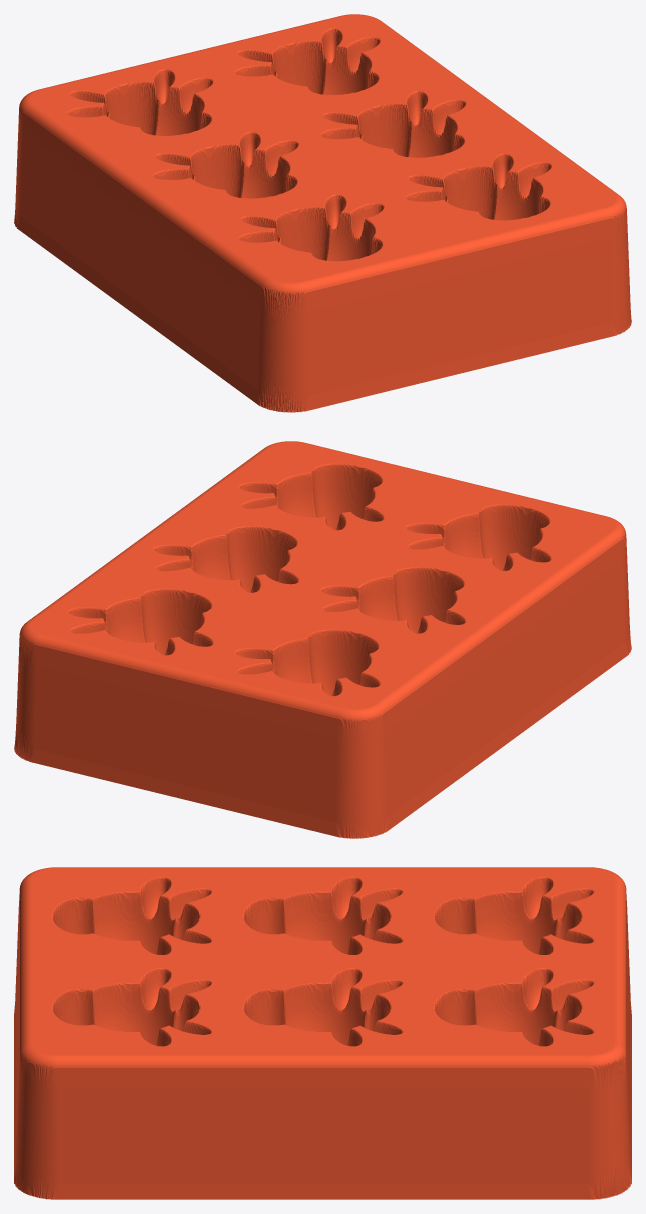
Rendered from mold.glb.
The picture shows the model from 3 angles, top to bottom: view 1: azimuth 30°, elevation 25°; view 2: azimuth 150°, elevation 25°; view 3: azimuth 270°, elevation 25°; orthographic projection. The views are drawn at different scales.
Parts seen in each view (by area): view 1: geometry_0; view 2: geometry_0; view 3: geometry_0.
Boxes of the visible parts, left/top/right/bottom form: geometry_0: left=14, top=14, right=631, bottom=412; geometry_0: left=14, top=441, right=631, bottom=838; geometry_0: left=14, top=867, right=631, bottom=1199.
Bounding box in the file's own units: 0.0986 × 0.0314 × 0.1279.
